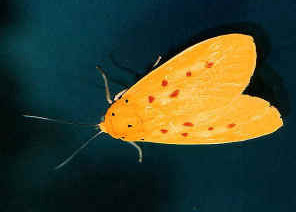Agape chloropyga: (22, 31, 283, 170)
moth: (22, 33, 283, 172)
